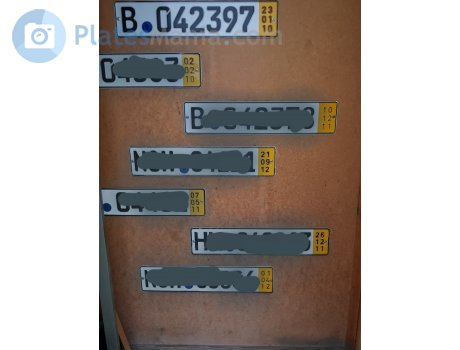License Plates: (115, 2, 256, 33)
